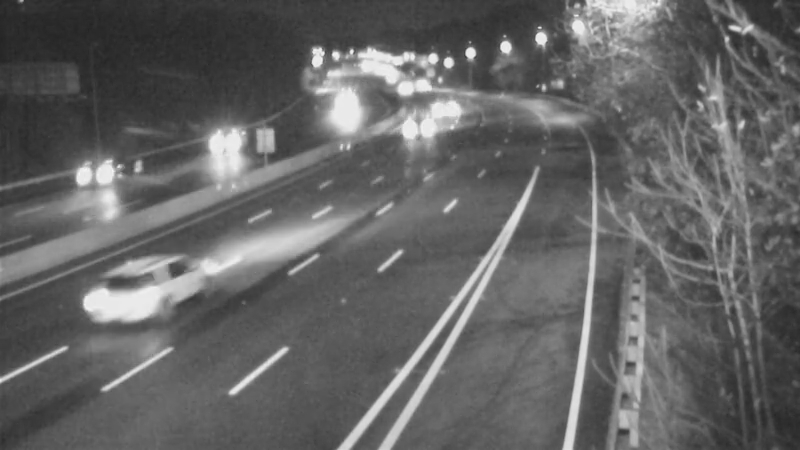vehicle: (72, 248, 182, 358), (51, 135, 131, 215), (410, 82, 460, 132), (387, 100, 437, 150), (187, 107, 237, 157), (310, 87, 360, 137)
